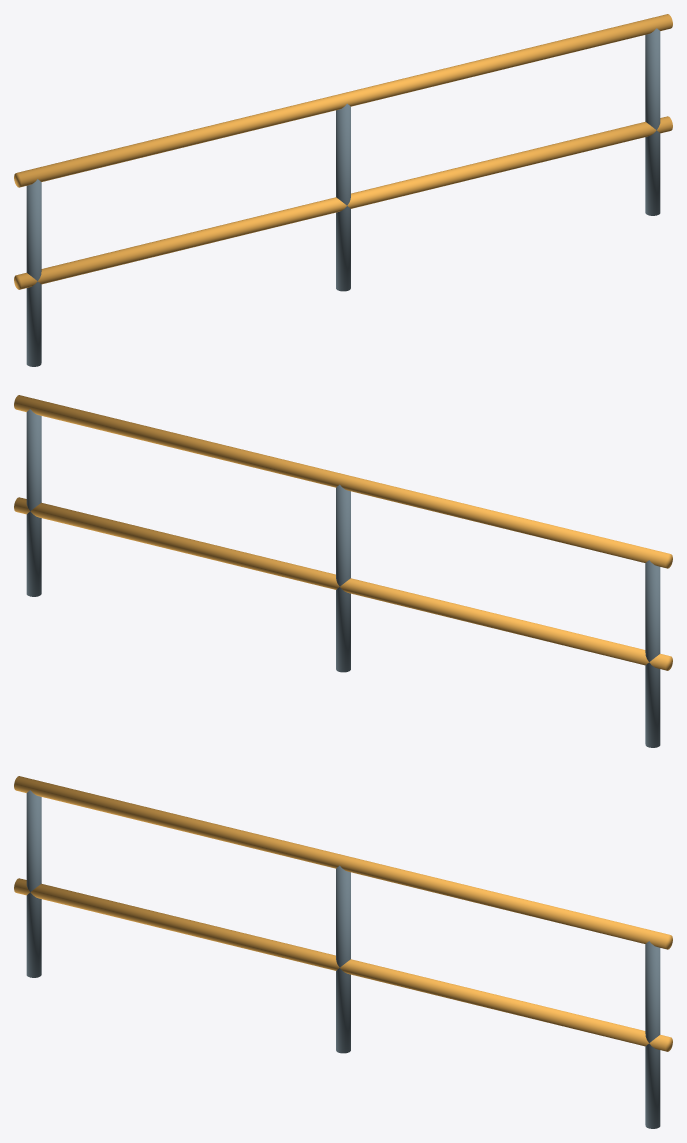
Rendered from SM_FE_Rail.fbx.
3 views of the same model, one above another, from view 1: azimuth 30°, elevation 25°; view 2: azimuth 150°, elevation 25°; view 3: azimuth 330°, elevation 25° (orthographic).
Parts seen in each view (by area): view 1: SM_FE_Rail; view 2: SM_FE_Rail; view 3: SM_FE_Rail.
Boxes of the visible parts, x1,y1,x2,y2 form: SM_FE_Rail: [14, 14, 672, 366]; SM_FE_Rail: [14, 395, 672, 747]; SM_FE_Rail: [14, 776, 672, 1128].
Size of the model in its own units: 400 by 8 by 114.
